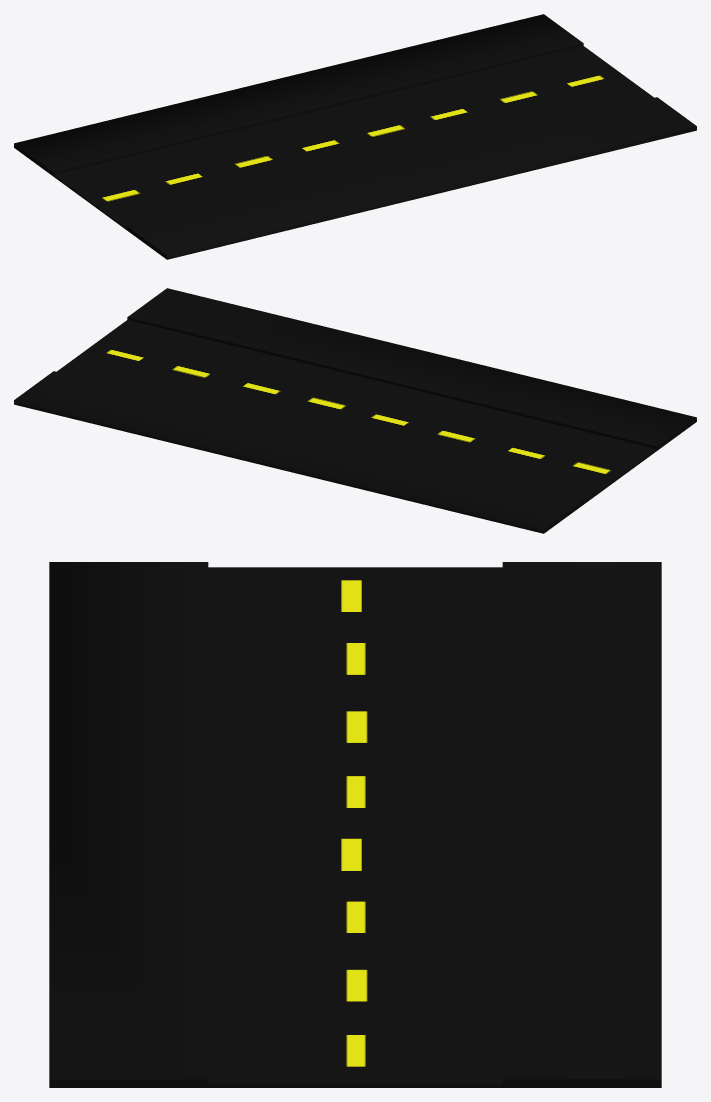
The model's file is road7.FBX.
3 renders of one model, top to bottom at view 1: azimuth 30°, elevation 25°; view 2: azimuth 150°, elevation 25°; view 3: azimuth 270°, elevation 25°, orthographic. The views are drawn at different scales.
Parts seen in each view (by area): view 1: Box001; view 2: Box001; view 3: Box001.
Boxes of the visible parts, x1,y1,x2,y2 form: Box001: (14,14,696,259); Box001: (14,288,696,533); Box001: (49,562,661,1087).
Bounding box in the file's own units: 97.89 × 0.7711 × 49.
